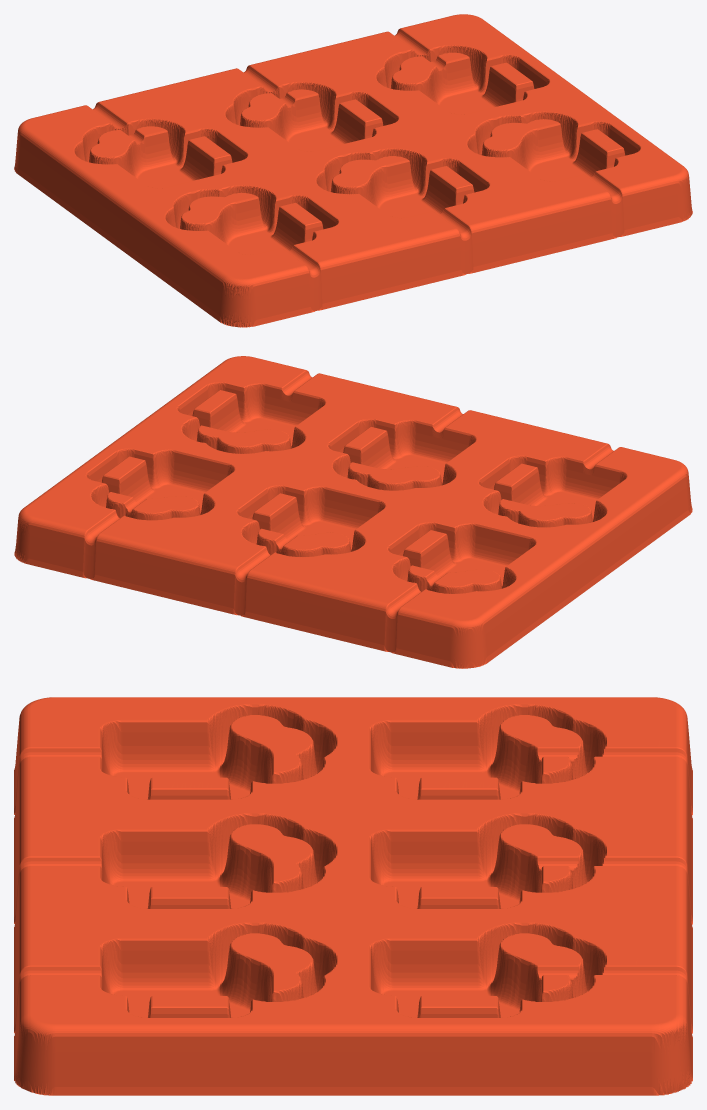
Rendered from mold.glb.
The picture shows the model from 3 angles, top to bottom: view 1: azimuth 30°, elevation 25°; view 2: azimuth 150°, elevation 25°; view 3: azimuth 270°, elevation 25°; orthographic projection. The views are drawn at different scales.
Visible parts, largest first — view 1: geometry_0; view 2: geometry_0; view 3: geometry_0.
Boxes of the visible parts, x1,y1,x2,y2 form: geometry_0: (14, 14, 692, 327); geometry_0: (14, 356, 692, 668); geometry_0: (14, 697, 692, 1095).
Bounding box in the file's own units: 0.175 × 0.0155 × 0.1477.
